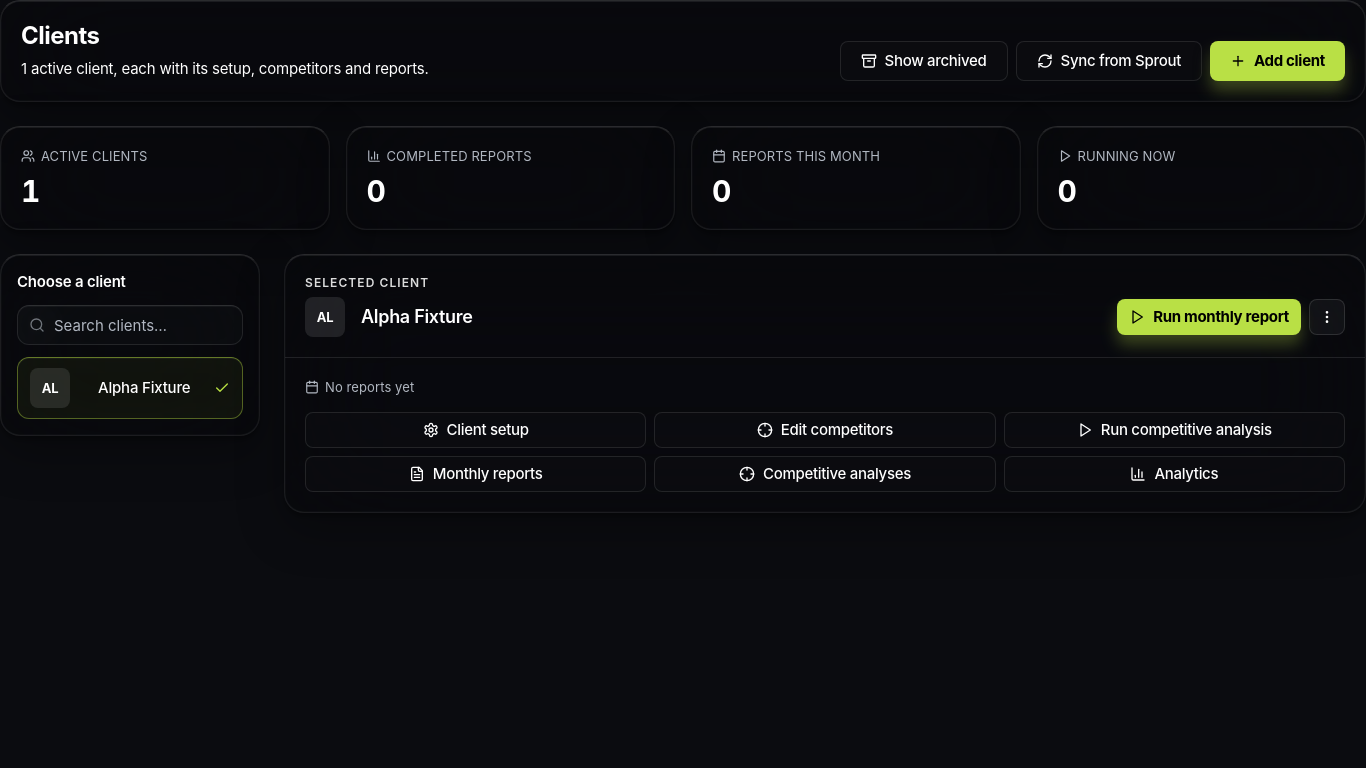
Test: when the run is over › keeps the line until it is dismissed
The width and height of the screenshot is (1366, 768).
Click the button "Sync from Sprout" at point(1109, 61), box [1016, 41, 1202, 81]
Wait 70020 ms
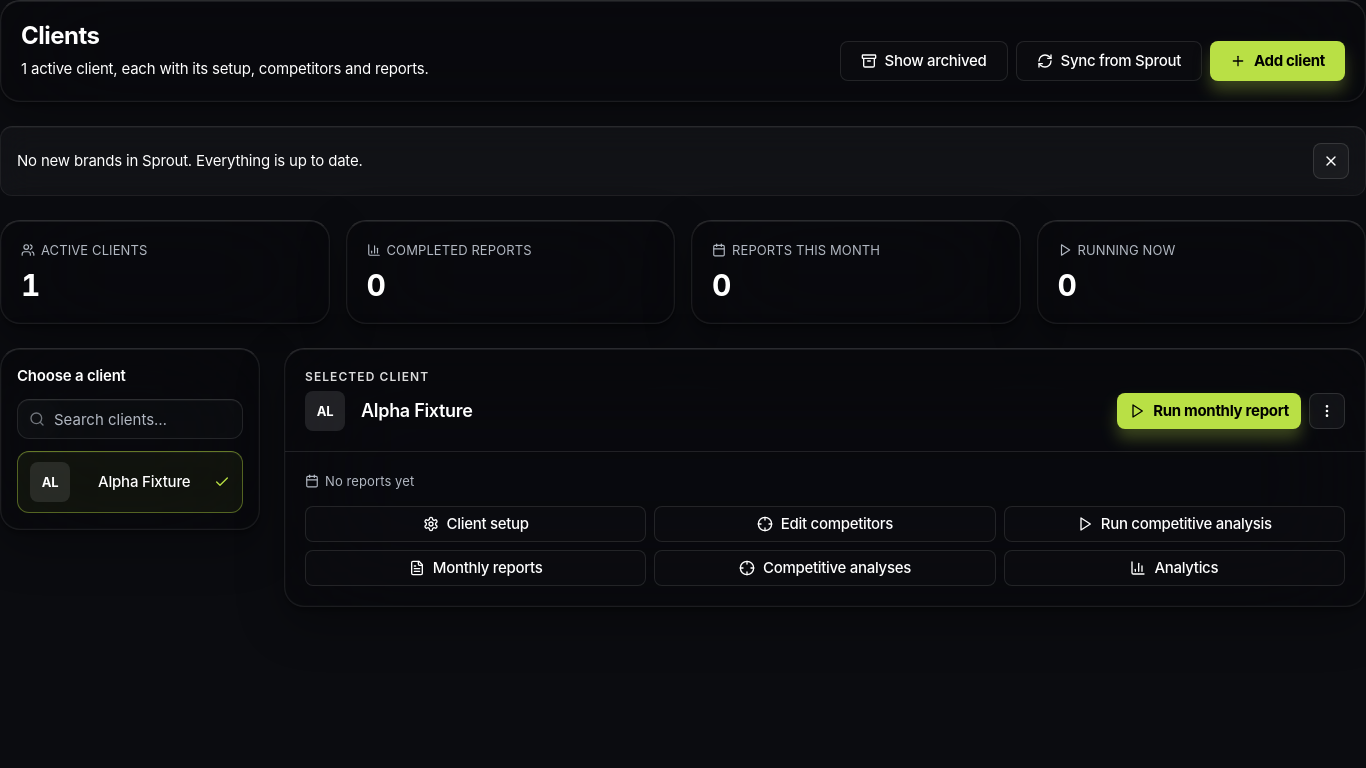
Expected: the message "No new brands in Sprout. Everything is up to date." is shown, [0, 126, 1365, 196]
Click the button named "Dismiss" at point(1331, 161), box [1313, 143, 1349, 179]
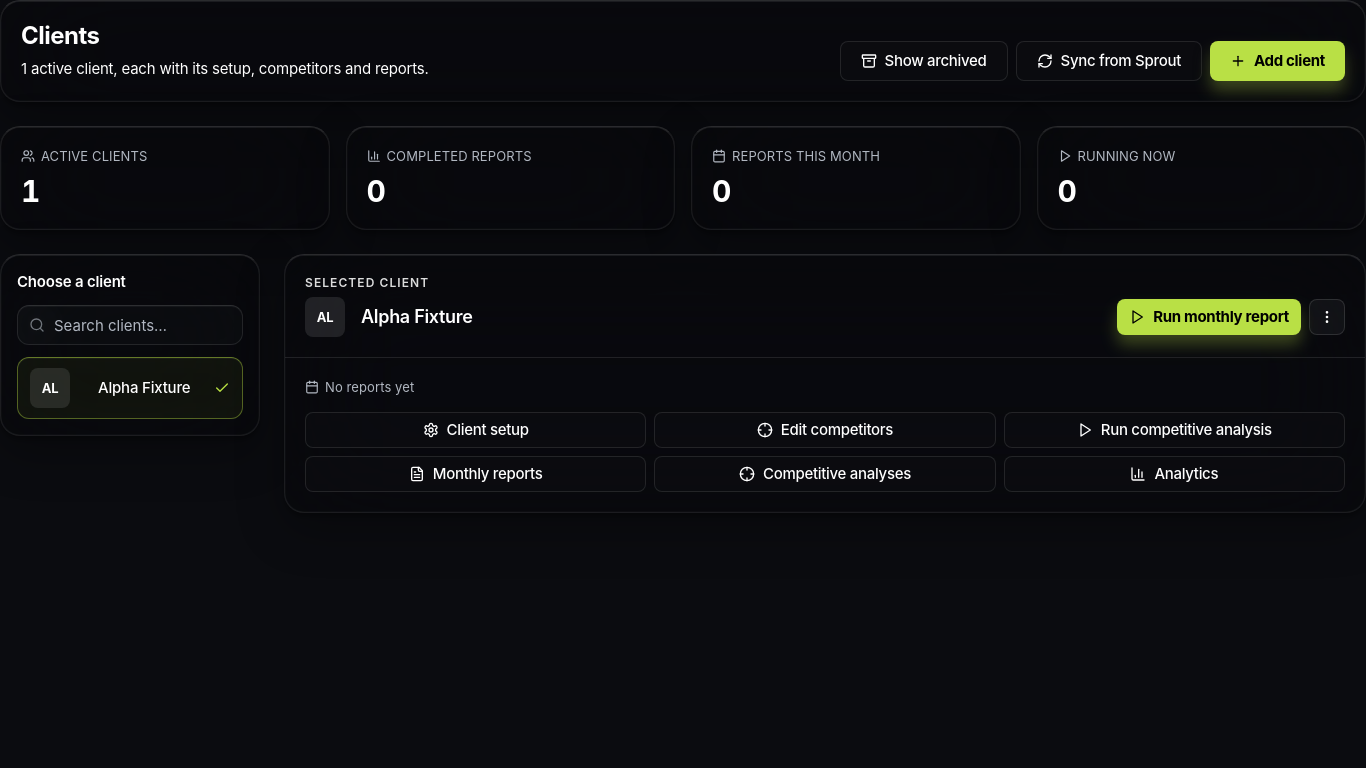
Expected: the message "No new brands in Sprout. Everything is up to date." is gone
